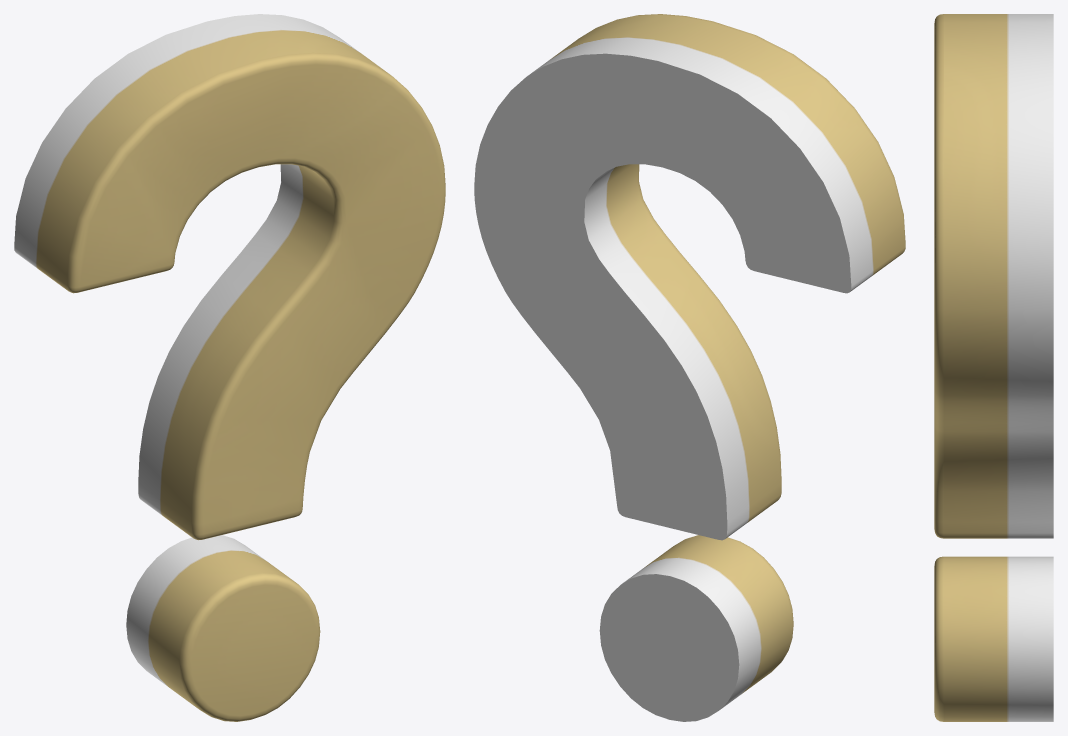
File: LettersLightUp01_S2.FBX
3 renders of one model, left to right at view 1: azimuth 30°, elevation 25°; view 2: azimuth 150°, elevation 25°; view 3: azimuth 270°, elevation 25°, orthographic. The views are drawn at different scales.
Visible parts, largest first — view 1: LettersLightUp01_S2; view 2: LettersLightUp01_S2; view 3: LettersLightUp01_S2.
Part boxes in pixels (x1,y1,x2,y2): LettersLightUp01_S2: [14, 14, 445, 721]; LettersLightUp01_S2: [474, 14, 905, 721]; LettersLightUp01_S2: [934, 14, 1053, 721].
Size of what is drawn, in the model's own units: 0.383 by 0.6365 by 0.1012.
